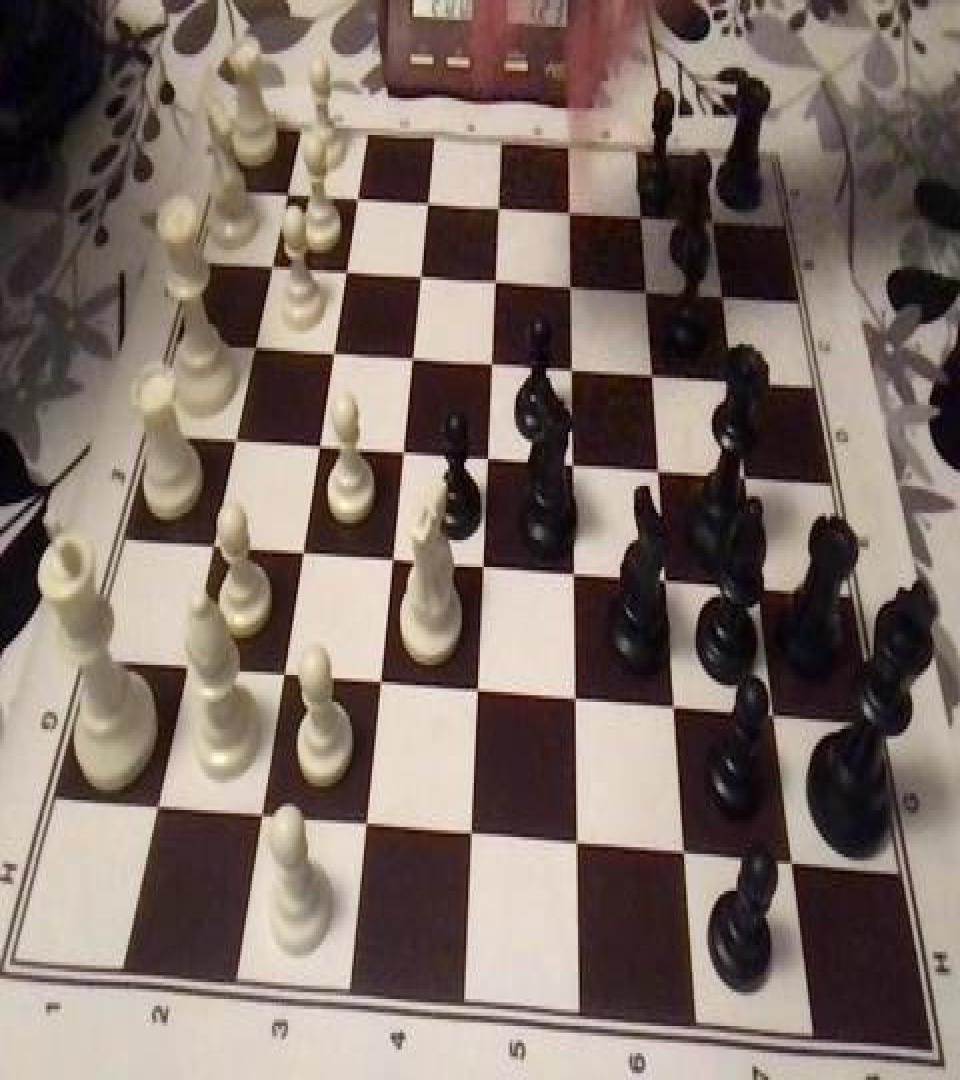xcorner: (545, 190, 571, 235), (690, 201, 716, 245), (617, 196, 643, 240), (473, 186, 499, 230), (402, 180, 428, 224), (331, 176, 357, 220), (260, 170, 286, 214), (698, 276, 724, 320), (621, 272, 647, 316), (545, 265, 571, 309), (469, 260, 495, 304), (394, 255, 420, 299), (318, 250, 344, 294), (243, 243, 269, 287), (707, 363, 733, 407), (626, 356, 652, 400), (545, 349, 571, 393), (464, 344, 490, 388), (384, 338, 410, 382), (305, 332, 331, 376), (225, 326, 251, 370), (718, 459, 744, 503), (631, 452, 657, 496), (545, 446, 571, 490), (459, 438, 485, 482), (374, 432, 400, 476), (289, 425, 315, 469), (204, 418, 230, 462), (729, 568, 755, 612), (637, 562, 663, 606), (545, 554, 571, 598), (453, 546, 479, 590), (362, 538, 388, 582), (271, 532, 297, 576), (181, 525, 207, 569), (743, 695, 769, 739), (643, 687, 669, 731), (544, 678, 570, 722), (446, 670, 472, 714), (348, 662, 374, 706), (251, 653, 277, 697), (154, 644, 180, 688), (759, 842, 785, 886), (651, 834, 677, 878), (544, 824, 570, 868), (438, 814, 464, 858), (332, 805, 358, 849), (227, 795, 253, 839), (123, 786, 149, 830)
